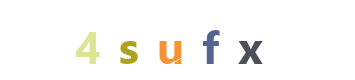4: (76, 0, 156, 80)
F: (138, 0, 218, 80)
S: (88, 0, 168, 80)
U: (130, 0, 210, 80)
X: (191, 0, 271, 80)
